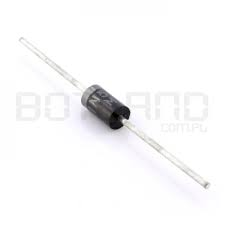diode: (47, 48, 136, 163)
